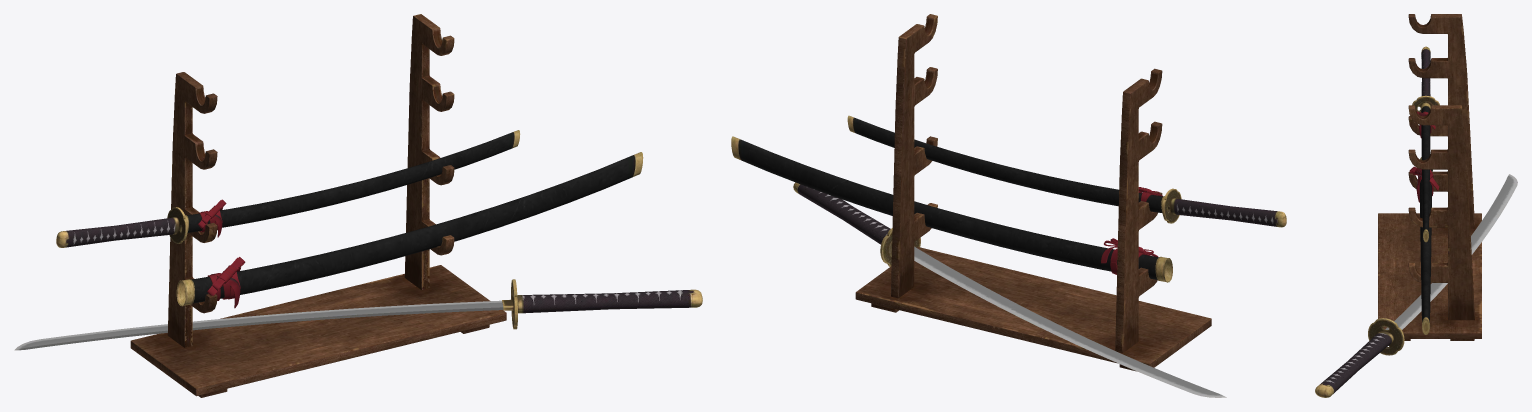
The picture shows the model from 3 angles, left to right: view 1: azimuth 30°, elevation 25°; view 2: azimuth 150°, elevation 25°; view 3: azimuth 270°, elevation 25°; orthographic projection. The views are drawn at different scales.
Parts seen in each view (by area): view 1: Stand_DefaultMaterial_0; view 2: Stand_DefaultMaterial_0; view 3: Stand_DefaultMaterial_0.
Boxes of the visible parts, left/top/right/bottom form: Stand_DefaultMaterial_0: left=14, top=14, right=702, bottom=397; Stand_DefaultMaterial_0: left=731, top=14, right=1286, bottom=397; Stand_DefaultMaterial_0: left=1315, top=14, right=1517, bottom=397.
Size of the model in its own units: 8.49 by 4.02 by 3.23.
Materials: 1 (1 with a texture image).
